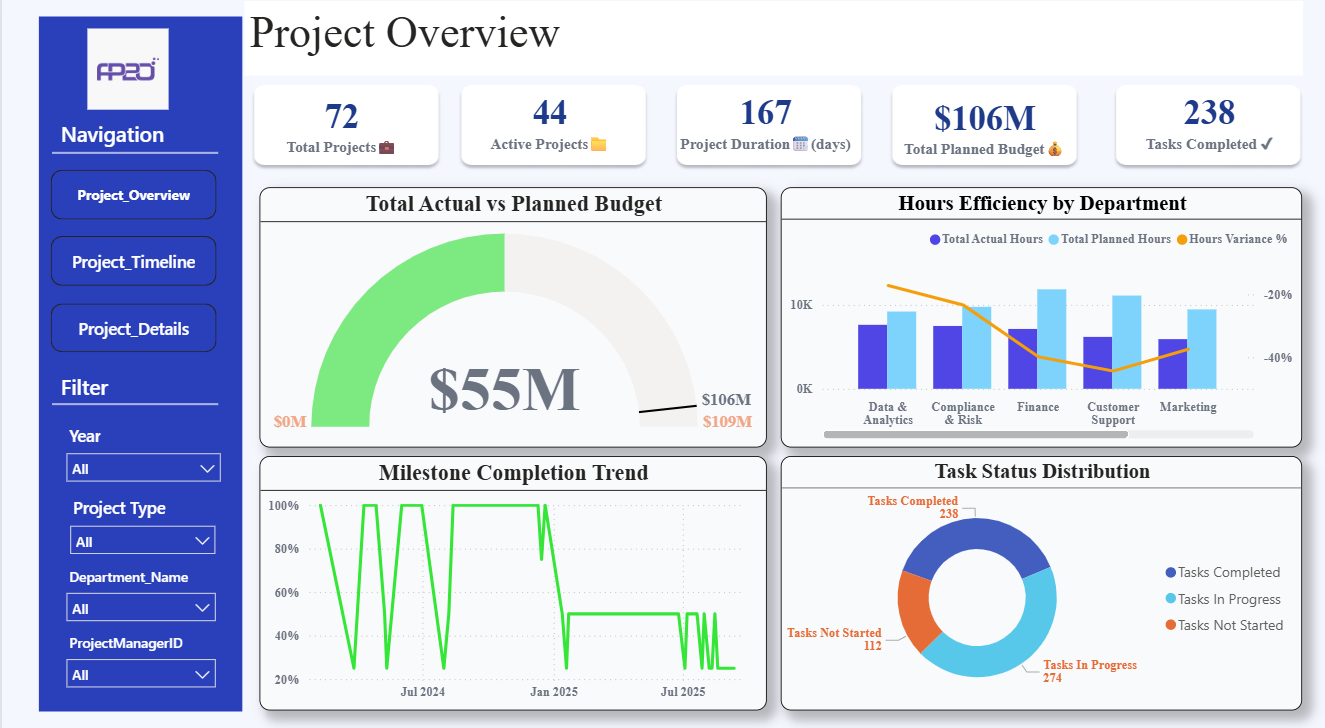

What the dashboard file says about the page in this screenshot:
{"tool":"powerbi","page":{"name":"Project_Overview","canvas":[1280,720],"ordinal":0},"visuals":[{"type":"card","fields":{"Values":["Key_Measures.Total_Projects"]},"box":[236.5,82,183.4,90.5],"z":0},{"type":"card","fields":{"Values":["Key_Measures.Active Projects"]},"box":[436.7,76,184.6,96.5],"z":1000},{"type":"card","fields":{"Values":["Key_Measures.Tasks Completed"]},"box":[1076.1,82,178.6,84.5],"z":2000},{"type":"card","fields":{"Values":["Key_Measures.Project Duration (Days)"]},"box":[639.4,76,195.4,96.5],"z":3000},{"type":"gauge","title":"Total Actual vs Planned Budget","fields":{"Y":["Key_Measures.Total Actual Budget"],"TargetValue":["Key_Measures.Total Planned Budget"]},"box":[248.5,189,489.3,251.1],"z":4000},{"type":"lineClusteredColumnComboChart","title":"Hours Efficiency by Department","fields":{"Category":["Departments.Department_Name"],"Y":["Key_Measures.Total Actual Hours","Key_Measures.Total Planned Hours"],"Y2":["Key_Measures.Hours Variance %"]},"box":[752.1,189,503.6,251.1],"z":5000},{"type":"lineChart","title":"Milestone Completion Trend","fields":{"Y":["Key_Measures.Milestone Completion %"],"Category":["Date Dim.Date.Variation.Date Hierarchy.Month"]},"box":[248.5,449.2,489.3,246],"z":6000},{"type":"donutChart","title":"Task Status Distribution","fields":{"Y":["Key_Measures.Tasks Completed","Key_Measures.Tasks In Progress","Key_Measures.Tasks Not Started"]},"box":[752.1,449.2,503.6,246],"z":7000},{"type":"card","fields":{"Values":["Key_Measures.Total Planned Budget"]},"box":[862.1,91.9,172.2,75.1],"z":8000},{"type":"textbox","box":[234,9.7,1021.9,72.4],"z":9000},{"type":"shape","title":"Navigation","box":[56.7,124.3,179.8,61.5],"z":10000},{"type":"shape","box":[48.3,97.7,160.5,117],"z":11000},{"type":"pageNavigator","box":[47.1,172.5,160.5,48.3],"z":12000},{"type":"pageNavigator","box":[47.1,236.5,160.5,48.3],"z":13000},{"type":"pageNavigator","box":[47.1,301.6,160.5,47.1],"z":14000},{"type":"shape","title":"Filter","box":[56.7,368,177.3,44.6],"z":15000},{"type":"shape","box":[48.3,340.2,160.5,117],"z":16000},{"type":"slicer","fields":{"Values":["Date Dim.Year"]},"box":[51.9,412.6,168.9,66.4],"z":17000},{"type":"slicer","fields":{"Values":["Projects.ProductName"]},"box":[55.5,482.6,160.5,68.8],"z":18000},{"type":"slicer","fields":{"Values":["Departments.Department_Name"]},"box":[52.3,550.8,164.1,64.4],"z":19000},{"type":"slicer","fields":{"Values":["Projects.ProjectManagerID"]},"box":[52.3,615.2,164.1,63.2],"z":20000},{"type":"image","box":[0,31.4,243.7,88.1],"z":21000}]}

Visuals, with their boxes in screenshot pixels (x1, y1, x2, y2), scaled from the page's 1280x720 canvas onto the 1325x728 screenshot:
card - Key_Measures.Total_Projects: x1=245, y1=83, x2=435, y2=174
card - Key_Measures.Active Projects: x1=452, y1=77, x2=643, y2=174
card - Key_Measures.Tasks Completed: x1=1114, y1=83, x2=1299, y2=168
card - Key_Measures.Project Duration (Days): x1=662, y1=77, x2=864, y2=174
"Total Actual vs Planned Budget" gauge: x1=257, y1=191, x2=764, y2=445
"Hours Efficiency by Department" lineClusteredColumnComboChart: x1=779, y1=191, x2=1300, y2=445
"Milestone Completion Trend" lineChart: x1=257, y1=454, x2=764, y2=703
"Task Status Distribution" donutChart: x1=779, y1=454, x2=1300, y2=703
card - Key_Measures.Total Planned Budget: x1=892, y1=93, x2=1071, y2=169
textbox: x1=242, y1=10, x2=1300, y2=83
"Navigation" shape: x1=59, y1=126, x2=245, y2=188
shape: x1=50, y1=99, x2=216, y2=217
pageNavigator: x1=49, y1=174, x2=215, y2=223
pageNavigator: x1=49, y1=239, x2=215, y2=288
pageNavigator: x1=49, y1=305, x2=215, y2=353
"Filter" shape: x1=59, y1=372, x2=242, y2=417
shape: x1=50, y1=344, x2=216, y2=462
slicer - Date Dim.Year: x1=54, y1=417, x2=229, y2=484
slicer - Projects.ProductName: x1=57, y1=488, x2=224, y2=558
slicer - Departments.Department_Name: x1=54, y1=557, x2=224, y2=622
slicer - Projects.ProjectManagerID: x1=54, y1=622, x2=224, y2=686
image: x1=0, y1=32, x2=252, y2=121
